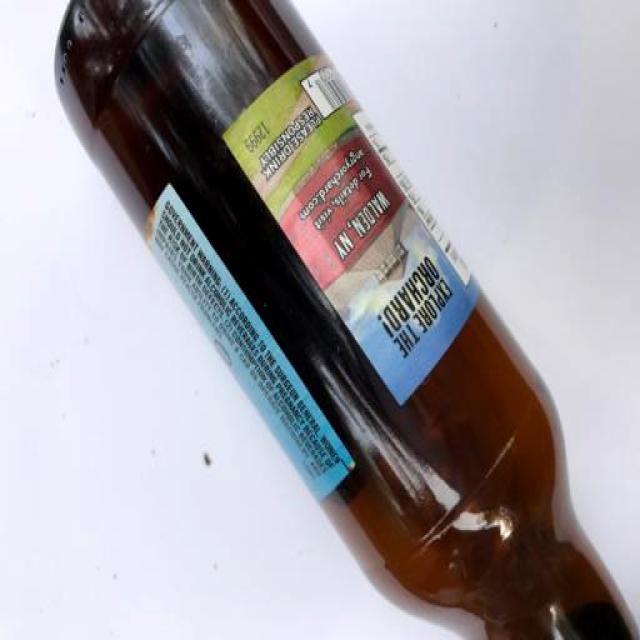Glass: (35, 0, 640, 640)
